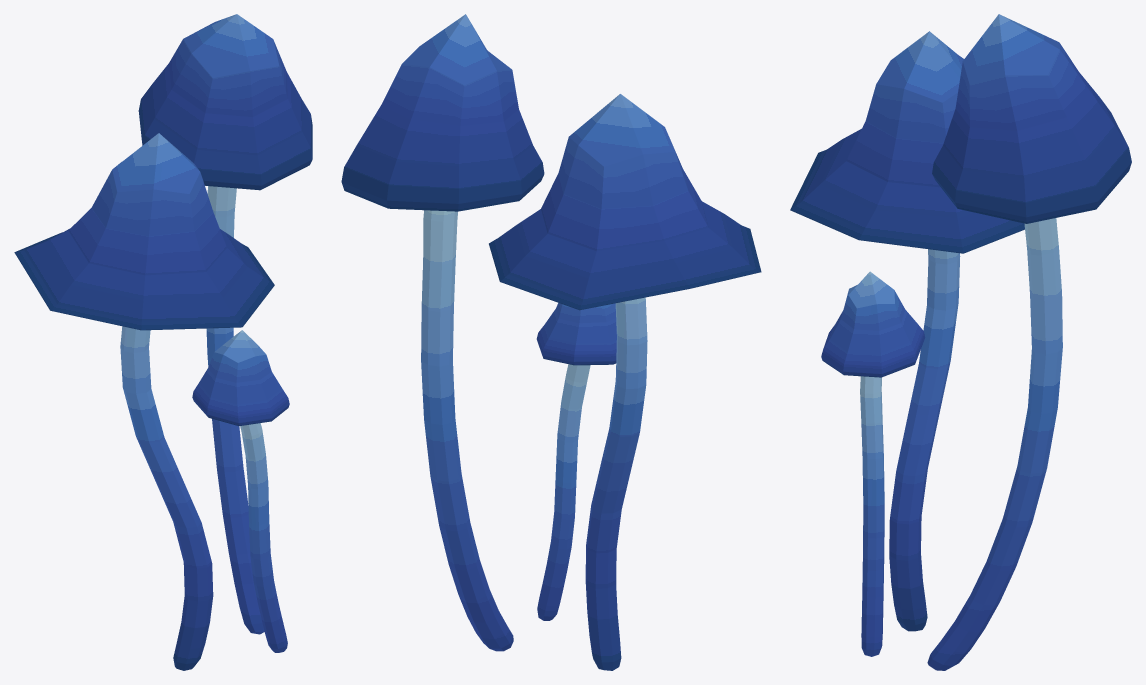
The model's file is BluePinkgill_Bunch.glb.
The picture shows the model from 3 angles, left to right: view 1: azimuth 30°, elevation 25°; view 2: azimuth 150°, elevation 25°; view 3: azimuth 270°, elevation 25°; orthographic projection. The views are drawn at different scales.
Visible parts, largest first — view 1: Cube.001; view 2: Cube.001; view 3: Cube.001.
Boxes of the visible parts, left/top/right/bottom form: Cube.001: left=14, top=14, right=312, bottom=670; Cube.001: left=341, top=14, right=761, bottom=670; Cube.001: left=790, top=14, right=1131, bottom=670.
Size of the model in its own units: 5.04 by 9.21 by 4.29.
Materials: 1 (1 with a texture image).
